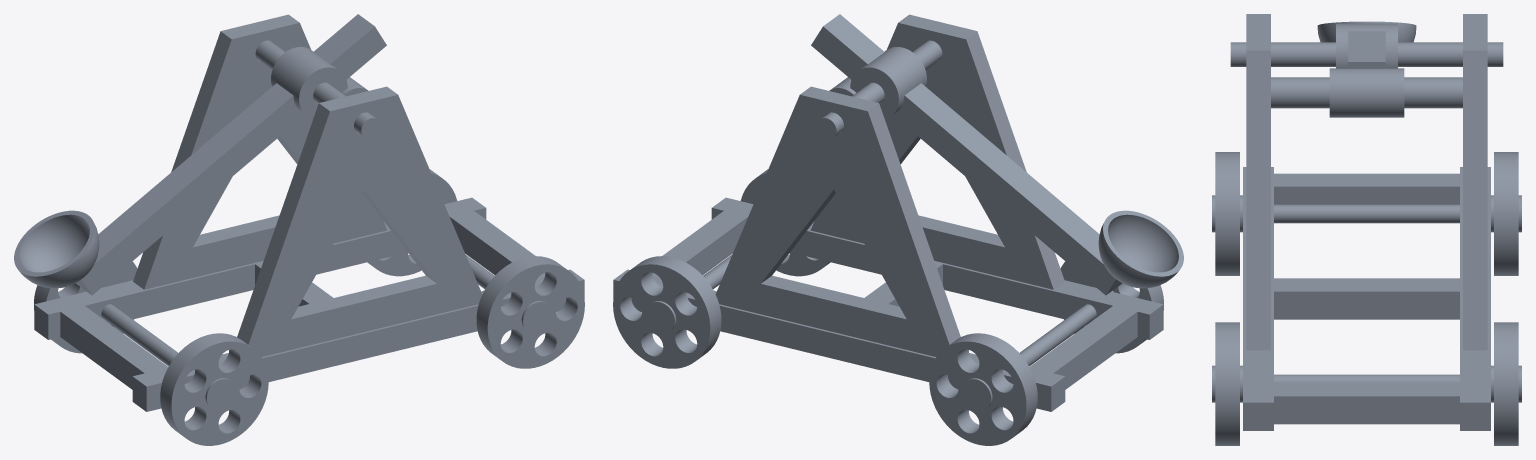
The model's file is step-6-preview-2.glb.
3 views of the same model, side by side, from view 1: azimuth 30°, elevation 25°; view 2: azimuth 150°, elevation 25°; view 3: azimuth 270°, elevation 25° (orthographic). The views are drawn at different scales.
Parts seen in each view (by area): view 1: preview_34, preview_6, preview_7, preview_62, preview_25, preview_91, preview_116, preview_59, preview_36, preview_8, preview_68, preview_15 (+21 smaller); view 2: preview_43, preview_5, preview_7, preview_60, preview_31, preview_79, preview_104, preview_59, preview_38, preview_15, preview_68, preview_8 (+21 smaller); view 3: preview_7, preview_9, preview_16, preview_28, preview_40, preview_49, preview_0, preview_103, preview_35, preview_72, preview_85, preview_97 (+11 smaller).
Boxes of the visible parts, x1=… form: preview_34: x1=248, y1=95, x2=482, y2=356; preview_6: x1=144, y1=23, x2=387, y2=289; preview_7: x1=34, y1=197, x2=583, y2=386; preview_62: x1=82, y1=96, x2=304, y2=295; preview_25: x1=146, y1=280, x2=584, y2=411; preview_91: x1=487, y1=264, x2=584, y2=368; preview_116: x1=171, y1=341, x2=268, y2=445; preview_59: x1=94, y1=83, x2=292, y2=263; preview_36: x1=85, y1=264, x2=254, y2=324; preview_8: x1=237, y1=103, x2=329, y2=344; preview_68: x1=19, y1=214, x2=89, y2=272; preview_15: x1=133, y1=31, x2=231, y2=289; preview_43: x1=715, y1=95, x2=949, y2=356; preview_5: x1=810, y1=23, x2=1053, y2=289; preview_7: x1=614, y1=197, x2=1163, y2=386; preview_60: x1=893, y1=96, x2=1115, y2=295; preview_31: x1=613, y1=280, x2=1051, y2=411; preview_79: x1=613, y1=264, x2=710, y2=368; preview_104: x1=929, y1=341, x2=1026, y2=445; preview_59: x1=905, y1=83, x2=1103, y2=263; preview_38: x1=943, y1=264, x2=1112, y2=324; preview_15: x1=868, y1=103, x2=960, y2=344; preview_68: x1=1108, y1=214, x2=1178, y2=272; preview_8: x1=966, y1=31, x2=1064, y2=289; preview_7: x1=1243, y1=167, x2=1490, y2=402; preview_9: x1=1246, y1=50, x2=1270, y2=350; preview_16: x1=1463, y1=50, x2=1487, y2=350; preview_28: x1=1274, y1=396, x2=1459, y2=424; preview_40: x1=1274, y1=291, x2=1459, y2=319; preview_49: x1=1230, y1=42, x2=1503, y2=66; preview_0: x1=1329, y1=68, x2=1404, y2=117; preview_103: x1=1274, y1=204, x2=1459, y2=223; preview_35: x1=1274, y1=186, x2=1459, y2=204; preview_72: x1=1494, y1=322, x2=1518, y2=445; preview_85: x1=1215, y1=322, x2=1239, y2=445; preview_97: x1=1494, y1=152, x2=1518, y2=275.
Bounding box in the file's own units: 0.2086 × 0.1263 × 0.1.
